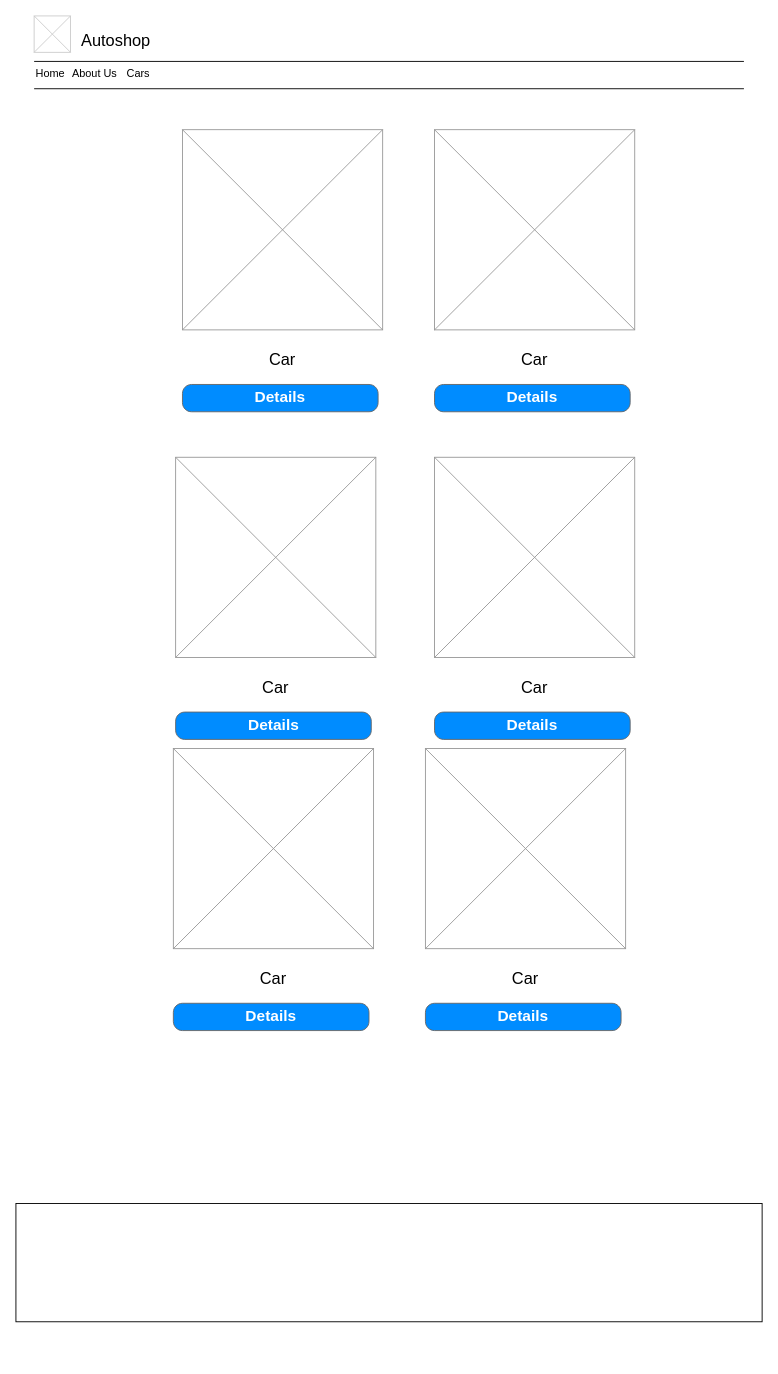
Some shapes in this 778 by 1374 pixel diagram are drawn without their labels. Each missing label, with the box of its shape:
Blog Logo: (33, 15, 71, 52)
Footer mit unseren Kontakt informationen: (15, 1203, 762, 1322)
